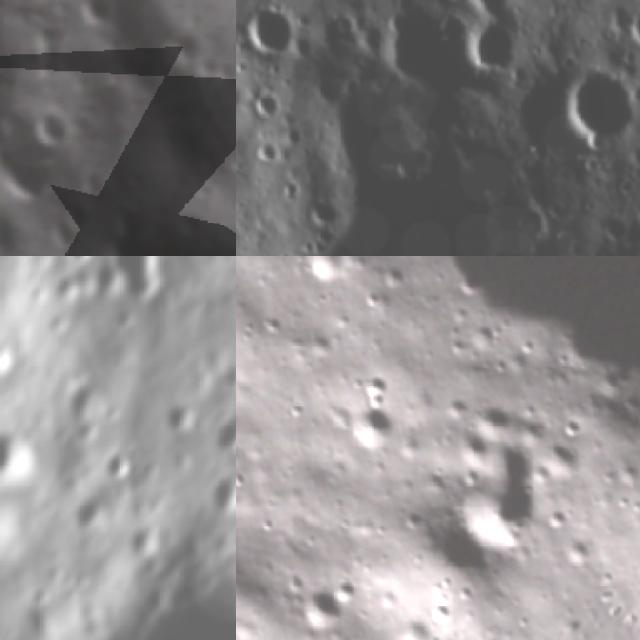crater: (310, 155, 640, 256), (382, 458, 536, 612), (324, 83, 424, 174), (566, 64, 640, 152), (0, 104, 56, 217), (330, 393, 405, 466), (203, 2, 236, 163), (285, 573, 359, 640), (472, 11, 529, 85), (98, 205, 178, 256), (241, 0, 300, 66), (38, 192, 104, 250), (20, 98, 74, 155), (100, 256, 163, 303), (69, 0, 136, 36), (0, 420, 33, 485), (463, 0, 531, 27), (96, 442, 134, 481), (208, 467, 236, 518), (67, 492, 106, 528), (306, 192, 344, 228), (159, 400, 194, 436), (247, 87, 283, 119), (328, 5, 364, 37), (214, 402, 236, 453), (0, 335, 17, 381), (252, 138, 278, 161), (630, 6, 640, 43), (62, 256, 93, 266)
